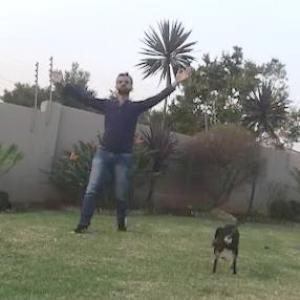takeoff: (62, 76, 182, 224)
